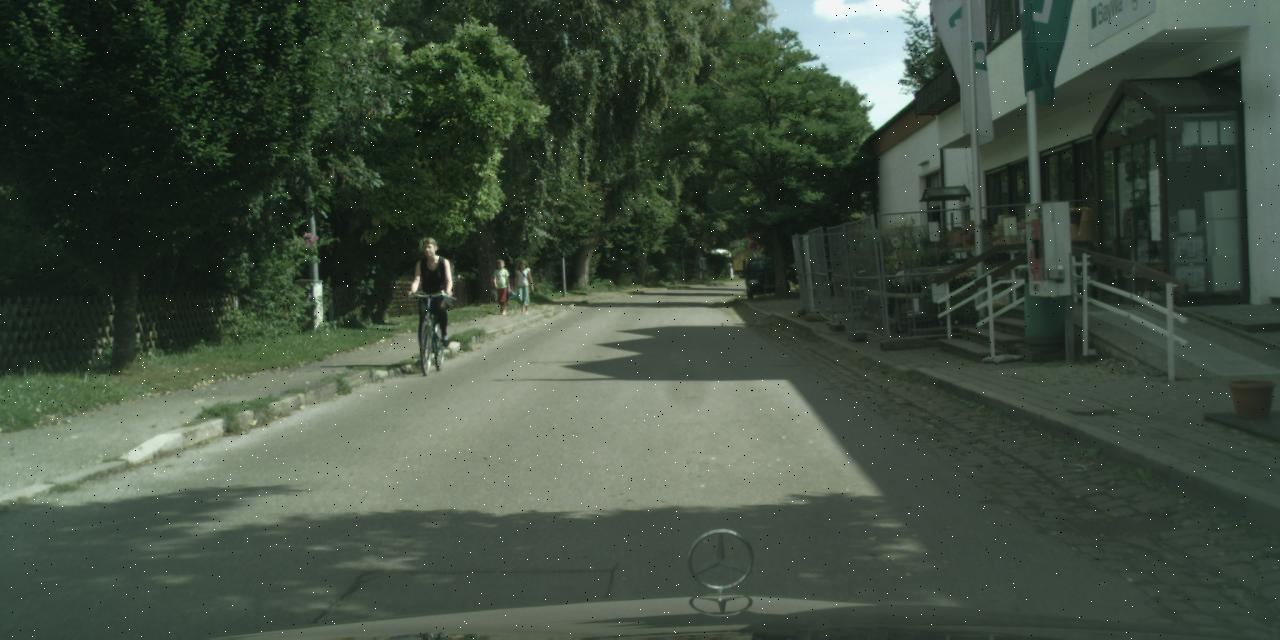ped: (408, 237, 453, 350), (512, 258, 534, 314), (490, 259, 512, 314)
